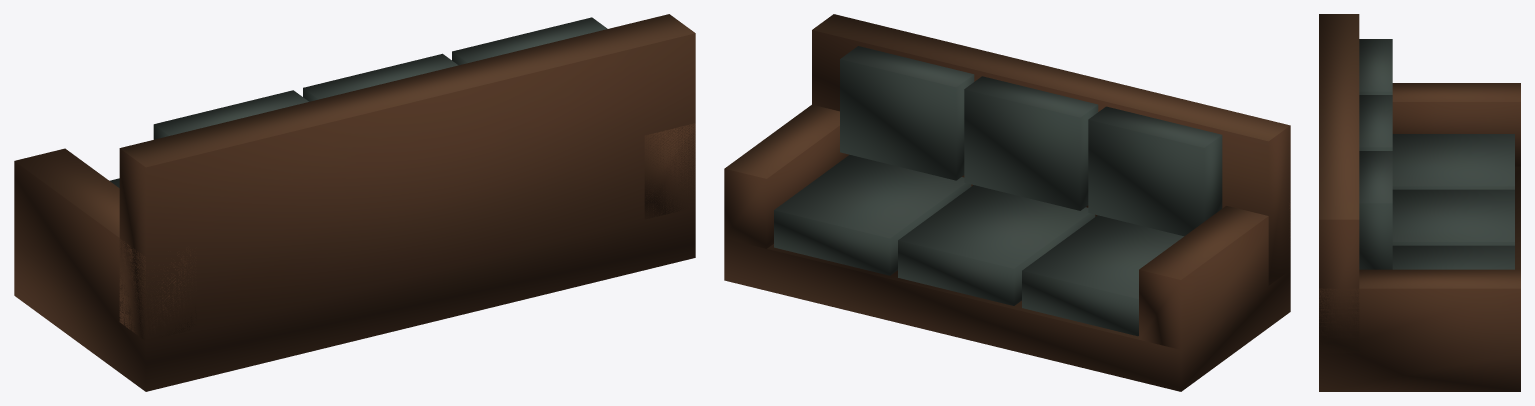
File: Sofa_Ruang_Bos.fbx
The picture shows the model from 3 angles, left to right: view 1: azimuth 30°, elevation 25°; view 2: azimuth 150°, elevation 25°; view 3: azimuth 270°, elevation 25°; orthographic projection. The views are drawn at different scales.
Visible parts, largest first — view 1: Sofa_Ruang_Bos; view 2: Sofa_Ruang_Bos; view 3: Sofa_Ruang_Bos.
Part boxes in pixels (left/top/right/bottom): Sofa_Ruang_Bos: left=14, top=14, right=695, bottom=391; Sofa_Ruang_Bos: left=724, top=14, right=1290, bottom=391; Sofa_Ruang_Bos: left=1319, top=14, right=1520, bottom=391.
Size of the model in its own units: 2.05 by 0.8 by 0.85.
